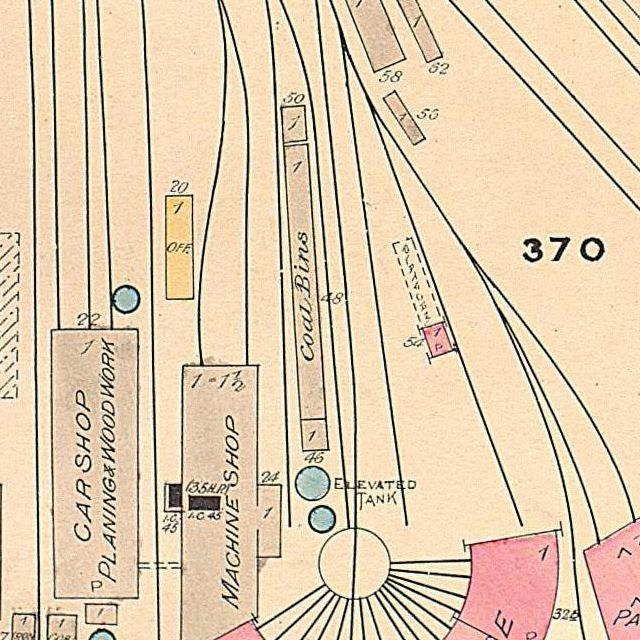building-footprints: (164, 365, 282, 640), (52, 330, 138, 598), (284, 144, 326, 419), (457, 530, 559, 640), (583, 518, 640, 640), (346, 0, 406, 72), (165, 196, 194, 299), (397, 0, 443, 63), (383, 91, 425, 146), (423, 323, 453, 357), (282, 106, 307, 143), (301, 419, 328, 451), (48, 615, 76, 640), (86, 604, 118, 625), (13, 614, 35, 640)
